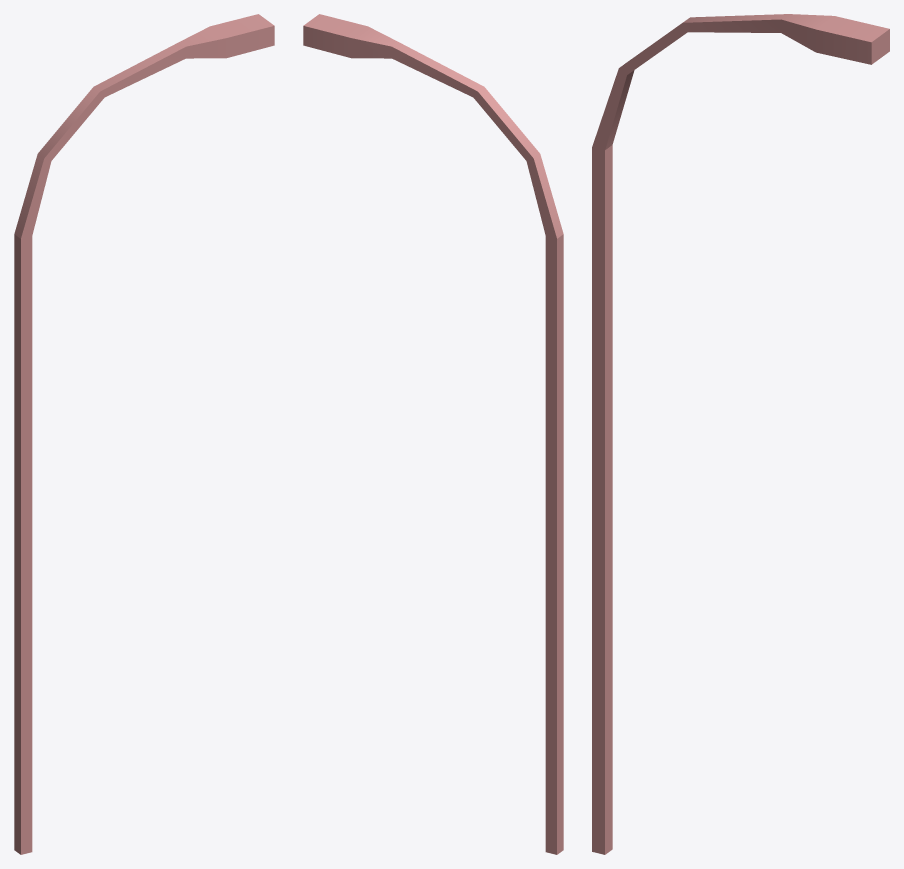
The model's file is LightPole_B_A_COL.fbx.
The picture shows the model from 3 angles, left to right: view 1: azimuth 30°, elevation 25°; view 2: azimuth 150°, elevation 25°; view 3: azimuth 330°, elevation 25°; orthographic projection. The views are drawn at different scales.
Parts seen in each view (by area): view 1: LightPole_B_A_COL; view 2: LightPole_B_A_COL; view 3: LightPole_B_A_COL.
Part boxes in pixels (x1,y1,x2,y2): LightPole_B_A_COL: (14,14,274,854); LightPole_B_A_COL: (303,14,563,854); LightPole_B_A_COL: (592,14,889,854).
Size of the model in its own units: 303 by 898 by 34.15.
